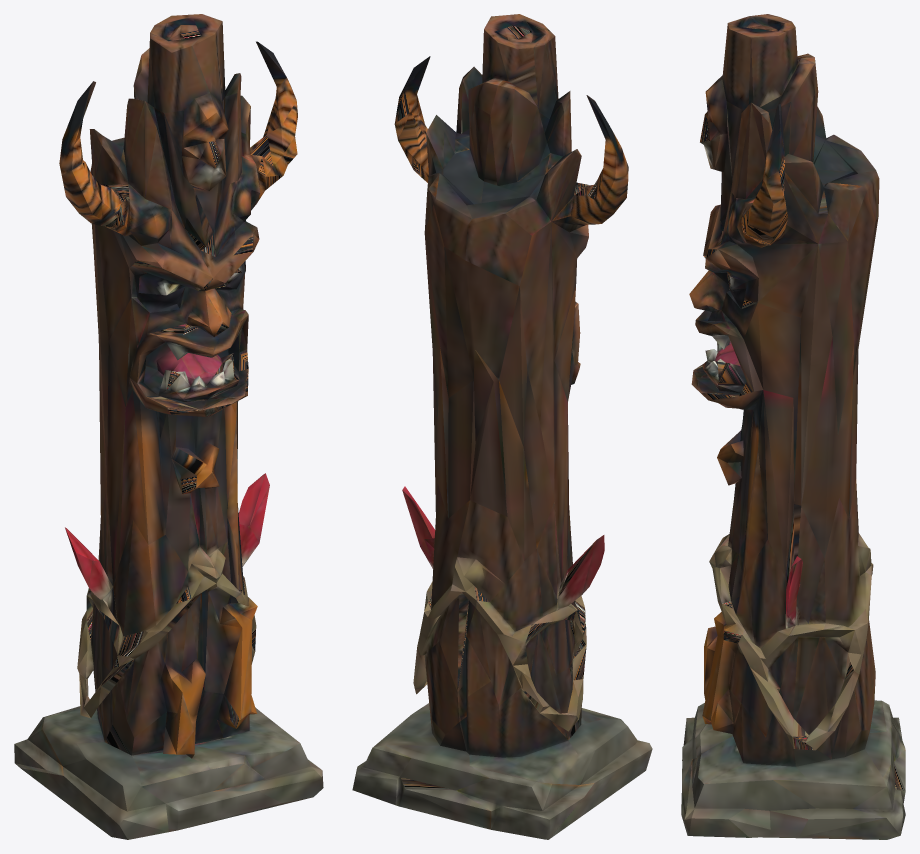
File: tribal-totem.low.glb
3 views of the same model, side by side, from view 1: azimuth 30°, elevation 25°; view 2: azimuth 150°, elevation 25°; view 3: azimuth 270°, elevation 25° (orthographic). The views are drawn at different scales.
Visible parts, largest first — view 1: output_unwrapped; view 2: output_unwrapped; view 3: output_unwrapped.
Boxes of the visible parts, x1=… form: output_unwrapped: x1=14, y1=14, x2=323, y2=839; output_unwrapped: x1=352, y1=14, x2=652, y2=839; output_unwrapped: x1=681, y1=14, x2=905, y2=839.
Size of the model in its own units: 0.6157 by 1.9 by 0.5016.
Materials: 1 (1 with a texture image).
